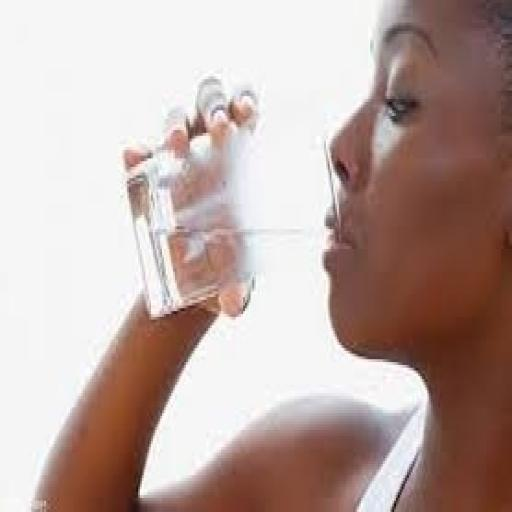drinking: (123, 0, 512, 320)
